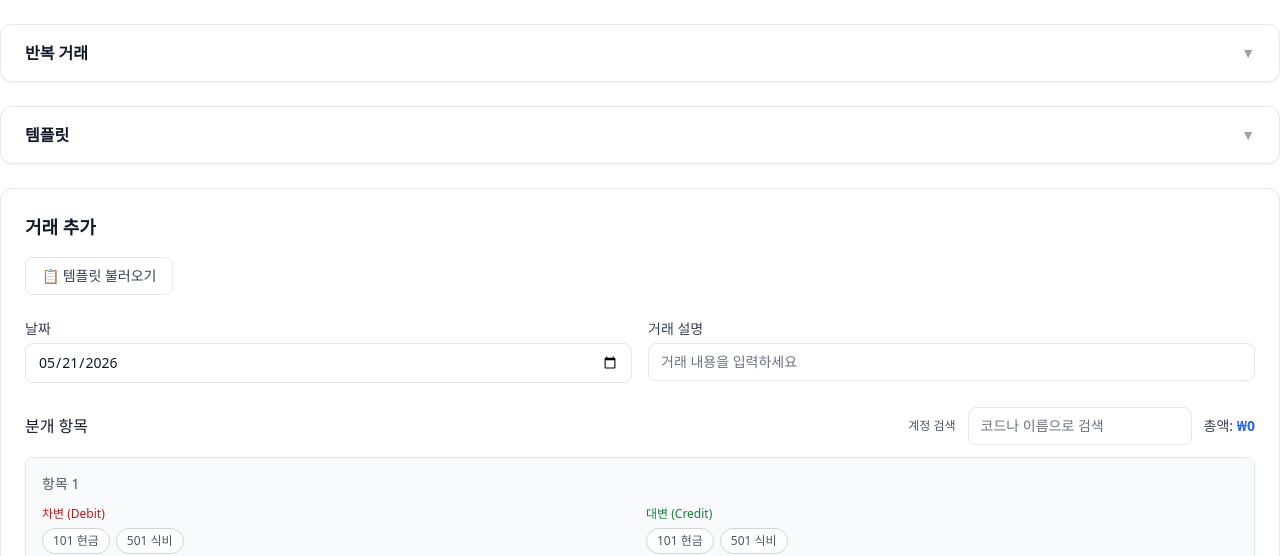
Test: TemplatesTab (템플릿 탭) › 템플릿 목록은 기준 통화 분개의 잘못된 환율을 무시하고 표시한다
Click the button "템플릿 ▼": (47, 135) 1,107 -> 1279,163
(page scrolled)
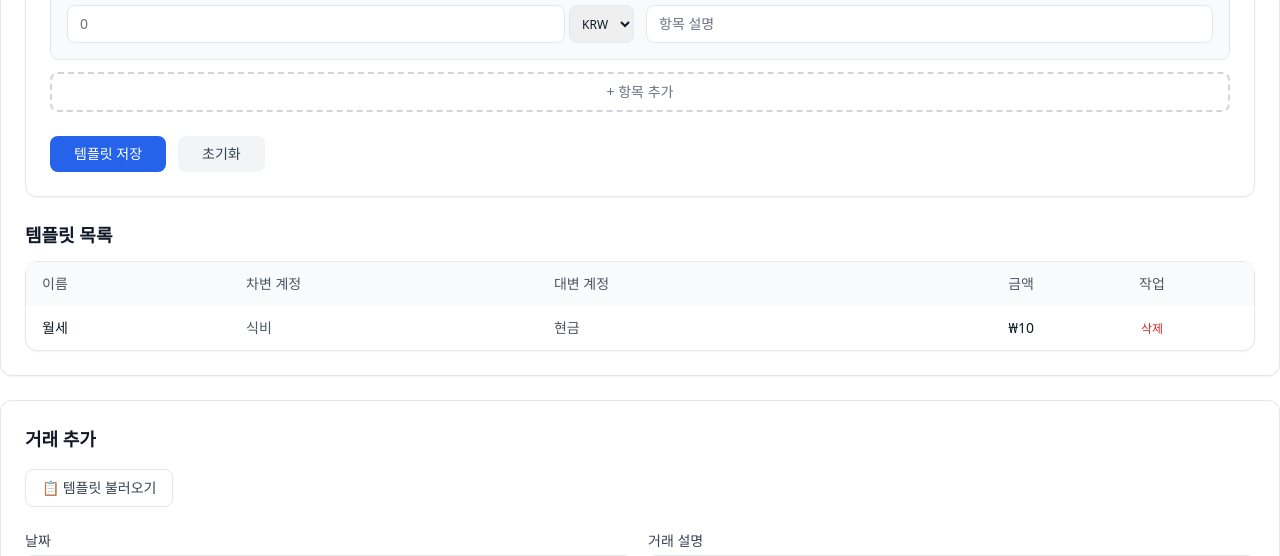
Result: the text "₩10" is shown at 846,306 -> 1050,350
